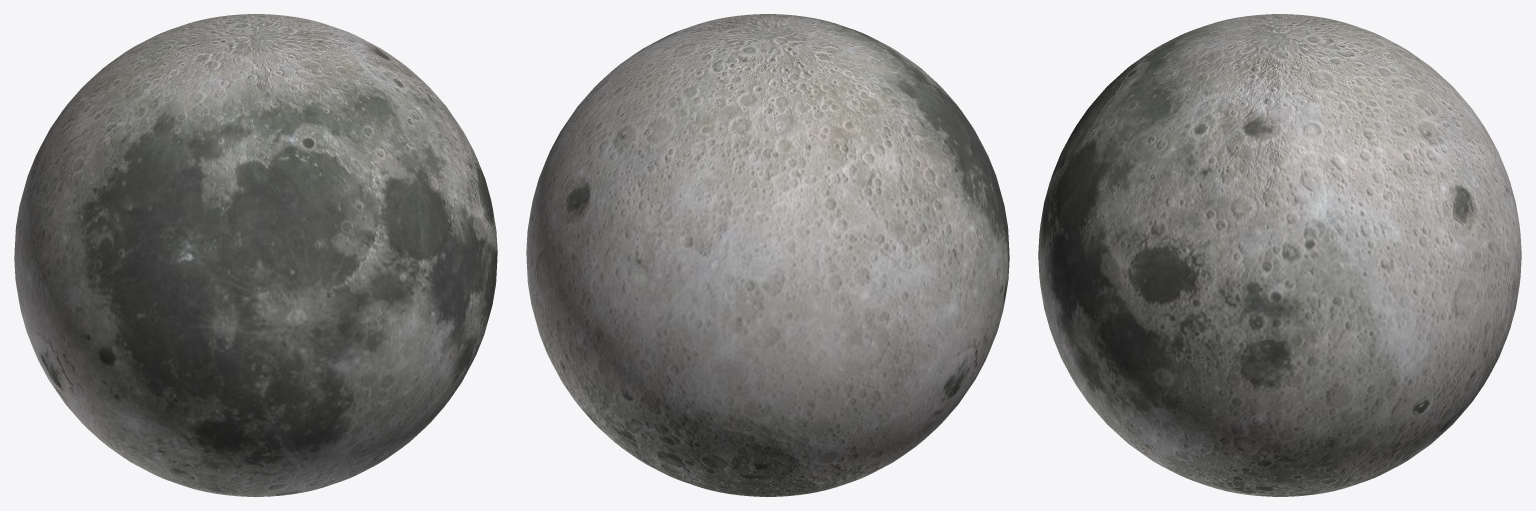
File: the_moon.glb
3 views of the same model, side by side, from view 1: azimuth 30°, elevation 25°; view 2: azimuth 150°, elevation 25°; view 3: azimuth 270°, elevation 25° (orthographic).
Visible parts, largest first — view 1: defaultMaterial; view 2: defaultMaterial; view 3: defaultMaterial.
Part boxes in pixels (x1=…): defaultMaterial: x1=14, y1=14, x2=497, y2=496; defaultMaterial: x1=526, y1=14, x2=1009, y2=496; defaultMaterial: x1=1038, y1=14, x2=1521, y2=496.
Bounding box in the file's own units: 2 × 2 × 2.
1 material, 1 textured.
